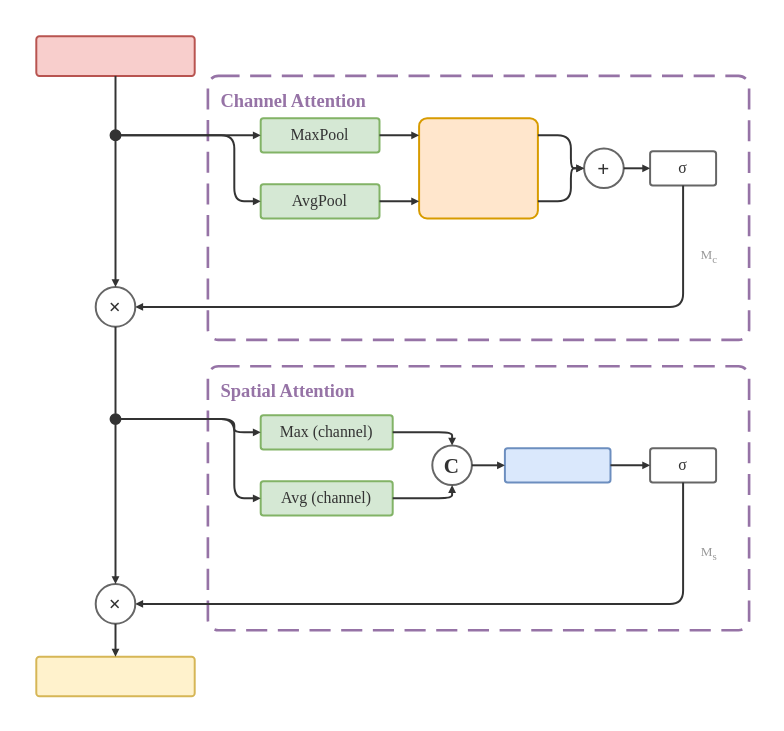
The diagram is 784 pixels wide and 731 high, and some of its shapes have lost their labels. Here are the shapes that lost their labels. From the top down, the centre of each, then its label:
At pixel 115 55: "Input F".
At pixel 478 168: "Shared MLP".
At pixel 557 465: "Conv 7x7".
At pixel 115 676: "Refined F″".
